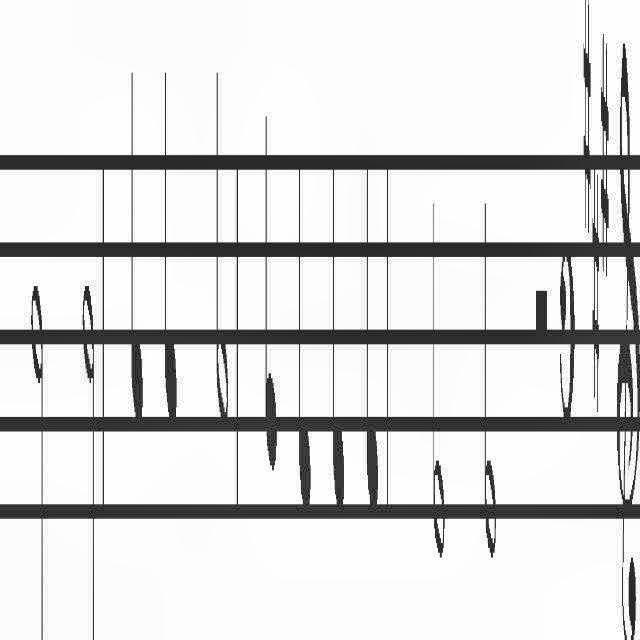Bass-clef: (615, 24, 640, 640), (639, 24, 640, 640)
Diez: (600, 28, 610, 296), (591, 157, 601, 419), (583, 0, 592, 232)
Half-note: (430, 176, 446, 572), (214, 46, 230, 432), (482, 185, 498, 567), (80, 276, 96, 640), (31, 271, 45, 640)
Quarter-note: (330, 118, 346, 516), (296, 130, 312, 526), (364, 138, 380, 526), (128, 50, 144, 432), (162, 53, 178, 434), (263, 89, 277, 484)
